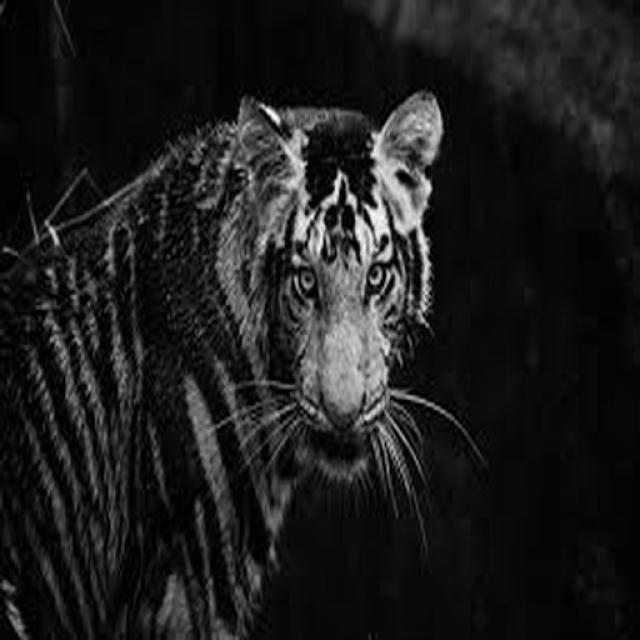Tiger: (0, 86, 488, 639)
